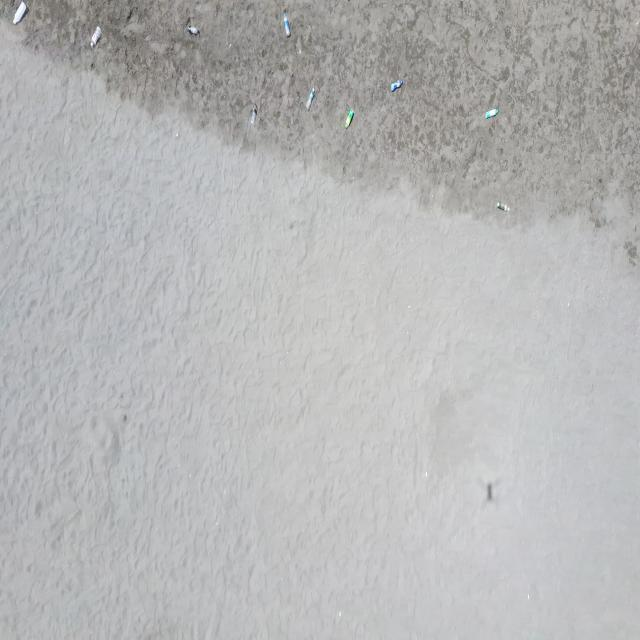plastic-bottle: (12, 0, 27, 27), (89, 26, 103, 50), (304, 87, 316, 112), (343, 107, 355, 130), (282, 10, 291, 39), (495, 200, 510, 215), (486, 106, 500, 120), (392, 77, 404, 93), (250, 102, 258, 126), (187, 25, 201, 36)
